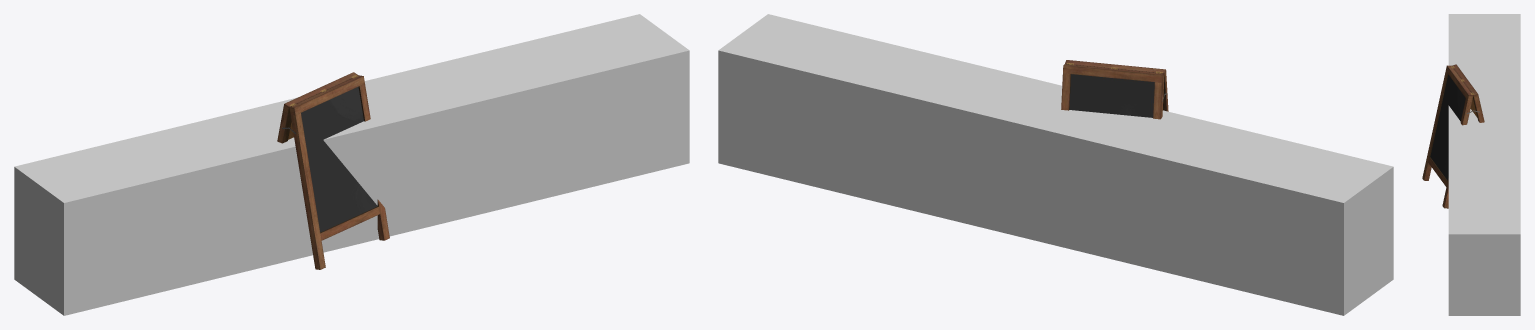
Rendered from sf05_goods.gltf.
3 views of the same model, side by side, from view 1: azimuth 30°, elevation 25°; view 2: azimuth 150°, elevation 25°; view 3: azimuth 270°, elevation 25° (orthographic). The views are drawn at different scales.
Visible parts, largest first — view 1: sf05_goods_COL, sf05_goods_LOD0; view 2: sf05_goods_COL, sf05_goods_LOD0; view 3: sf05_goods_COL, sf05_goods_LOD0.
Part boxes in pixels (x1=…): sf05_goods_COL: x1=14, y1=14, x2=689, y2=315; sf05_goods_LOD0: x1=277, y1=72, x2=389, y2=269; sf05_goods_COL: x1=718, y1=14, x2=1393, y2=315; sf05_goods_LOD0: x1=1061, y1=60, x2=1168, y2=119; sf05_goods_COL: x1=1448, y1=14, x2=1520, y2=315; sf05_goods_LOD0: x1=1422, y1=64, x2=1484, y2=208.
Size of what is drawn, in the model's own units: 5.8 by 1.36 by 1.09.
Materials: 1 (1 with a texture image).
